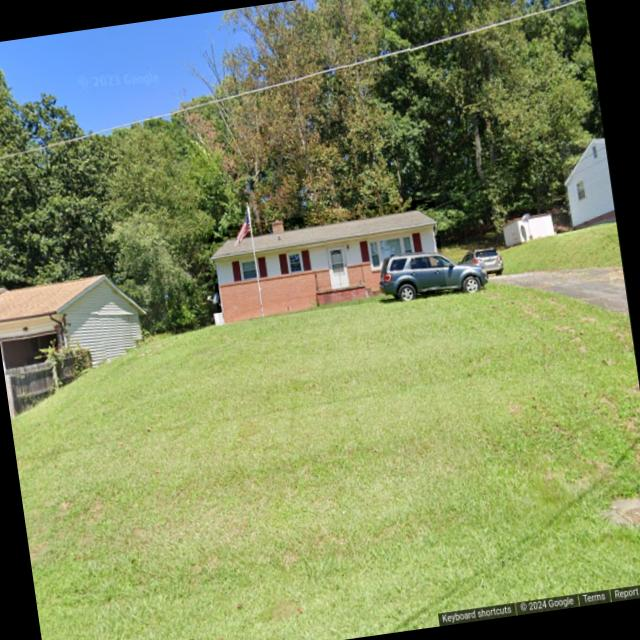House: (207, 198, 448, 324), (0, 267, 153, 375), (558, 136, 616, 230)
